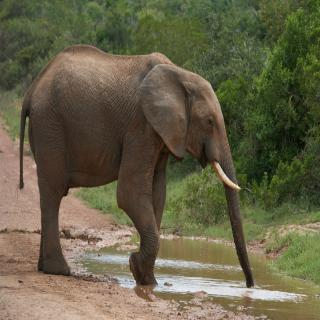Elephant: (17, 42, 264, 296)
